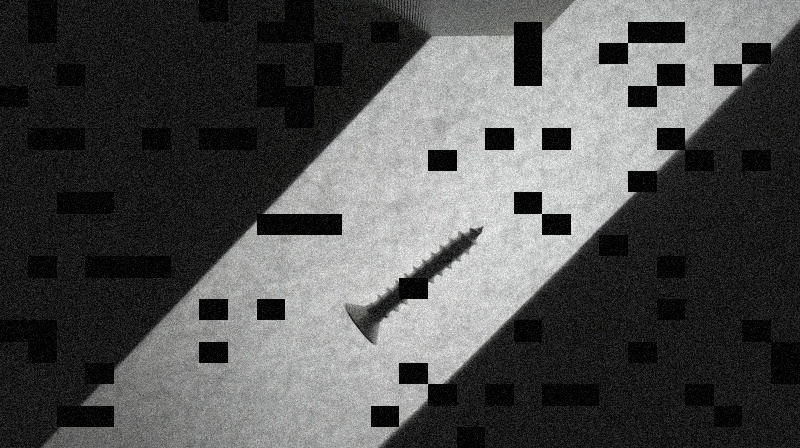S001: (342, 223, 488, 346)
